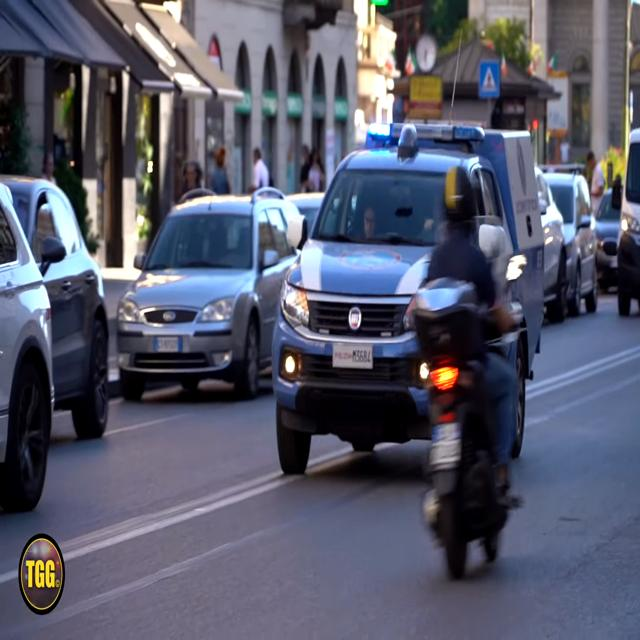emergency-vehicles: (263, 109, 555, 486)
